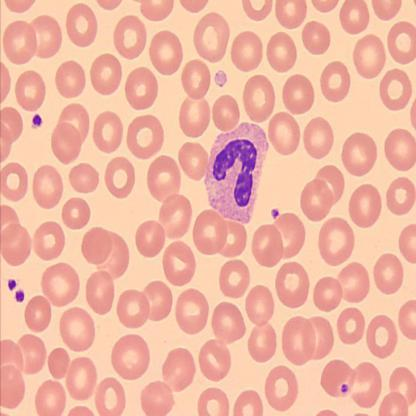Band Neutrophil: (201, 118, 272, 226)
